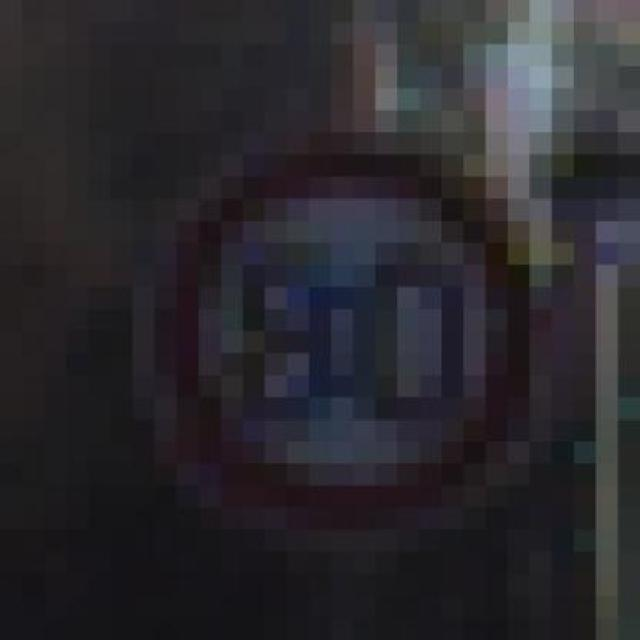forb_speed_over_80: (168, 155, 537, 523)
